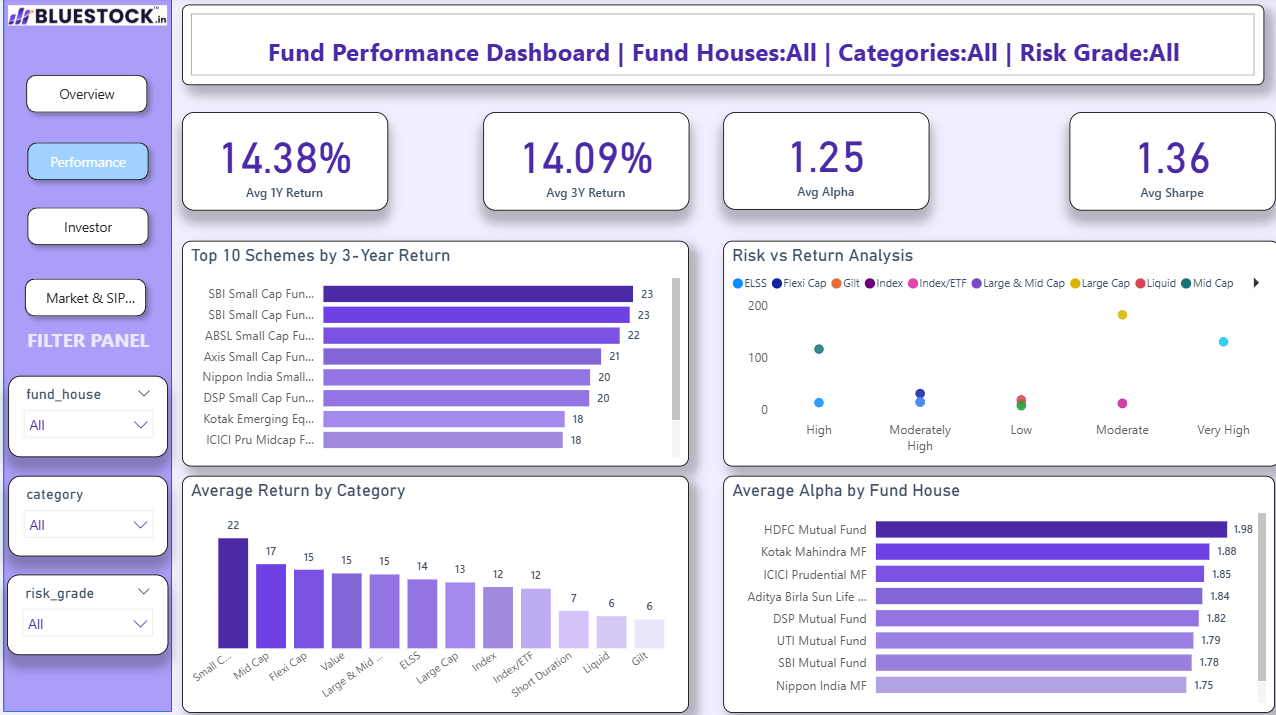

This screenshot's page, from the dashboard's own definition file:
{"tool":"powerbi","page":{"name":"Performance","canvas":[1280,720],"ordinal":1},"visuals":[{"type":"group","id":"g1","title":"Group 1","box":[11,0,165.6,701.8],"z":0},{"type":"shape","box":[11,0,165.6,701.8],"z":0,"group":"g1"},{"type":"card","title":"Total AUM","fields":{"Values":["Table.Avg 1Y Return"]},"box":[186.3,112.9,202.1,97.1],"z":1000},{"type":"card","title":"Total AUM","fields":{"Values":["Table.Avg 3Y Return"]},"box":[482.1,112.9,202.1,97.1],"z":2000},{"type":"card","title":"Total AUM","fields":{"Values":["Table.Avg Alpha"]},"box":[718.1,112.9,202.1,96],"z":3000},{"type":"card","title":"Total AUM","fields":{"Values":["Table.Avg Sharpe"]},"box":[1058,112.9,202.1,97.1],"z":4000},{"type":"clusteredBarChart","title":"Top 10 Schemes by 3-Year Return","fields":{"Category":["public scheme_performance_features.scheme_name"],"Y":["Sum(public scheme_performance_features.return_3yr_pct)"]},"box":[186.3,239.4,498,221.3],"z":5000},{"type":"scatterChart","title":"Risk vs Return Analysis","fields":{"Y":["Sum(public scheme_performance_features.return_3yr_pct)"],"X":["public scheme_performance_features.risk_grade"],"Series":["public scheme_performance_features.category"]},"box":[718.1,239.4,546.5,221.3],"z":6000},{"type":"clusteredColumnChart","title":"Average Return by Category","fields":{"Y":["Avg(public scheme_performance_features.return_3yr_pct)"],"Category":["public scheme_performance_features.category"]},"box":[186.3,469.7,498,232.6],"z":7000},{"type":"clusteredBarChart","title":"Average Alpha by Fund House","fields":{"Y":["Avg(public scheme_performance_features.alpha)"],"Category":["public scheme_performance_features.fund_house"]},"box":[718.1,469.7,542,232.6],"z":8000},{"type":"slicer","fields":{"Values":["public scheme_performance_features.fund_house"]},"box":[16,371.8,157.1,79.8],"z":9000},{"type":"slicer","fields":{"Values":["DimCategory.category"]},"box":[15.8,469.7,157,79],"z":10000},{"type":"slicer","fields":{"Values":["public scheme_performance_features.risk_grade"]},"box":[14.7,566.8,158.1,79],"z":11000},{"type":"cardVisual","fields":{"Data":["Table.Dashboard Title"]},"box":[186.3,7.9,1062.5,79],"z":12000},{"type":"image","box":[11,0,165.6,35.6],"z":13000,"group":"g1"},{"type":"textbox","box":[19.6,319,149.7,47.9],"z":13000},{"type":"pageNavigator","box":[24.5,67.5,137.4,55.2],"z":14000},{"type":"pageNavigator","box":[25.8,133.7,137.4,55.2],"z":15000},{"type":"pageNavigator","box":[25.8,197.5,137.4,55.2],"z":16000},{"type":"pageNavigator","box":[23.3,267.5,137.4,55.2],"z":17000}]}

Visuals, with their boxes in screenshot pixels (x1, y1, x2, y2):
"Group 1" group: [x1=1, y1=0, x2=169, y2=709]
shape: [x1=1, y1=0, x2=169, y2=709]
"Total AUM" card: [x1=179, y1=111, x2=384, y2=210]
"Total AUM" card: [x1=479, y1=111, x2=684, y2=210]
"Total AUM" card: [x1=719, y1=111, x2=924, y2=209]
"Total AUM" card: [x1=1063, y1=111, x2=1268, y2=210]
"Top 10 Schemes by 3-Year Return" clusteredBarChart: [x1=179, y1=240, x2=684, y2=464]
"Risk vs Return Analysis" scatterChart: [x1=719, y1=240, x2=1273, y2=464]
"Average Return by Category" clusteredColumnChart: [x1=179, y1=473, x2=684, y2=709]
"Average Alpha by Fund House" clusteredBarChart: [x1=719, y1=473, x2=1268, y2=709]
slicer - public scheme_performance_features.fund_house: [x1=6, y1=374, x2=166, y2=455]
slicer - DimCategory.category: [x1=6, y1=473, x2=165, y2=553]
slicer - public scheme_performance_features.risk_grade: [x1=5, y1=572, x2=165, y2=652]
cardVisual - Table.Dashboard Title: [x1=179, y1=5, x2=1257, y2=85]
image: [x1=1, y1=0, x2=169, y2=33]
textbox: [x1=10, y1=320, x2=162, y2=369]
pageNavigator: [x1=15, y1=65, x2=154, y2=121]
pageNavigator: [x1=16, y1=132, x2=156, y2=188]
pageNavigator: [x1=16, y1=197, x2=156, y2=253]
pageNavigator: [x1=14, y1=268, x2=153, y2=324]
